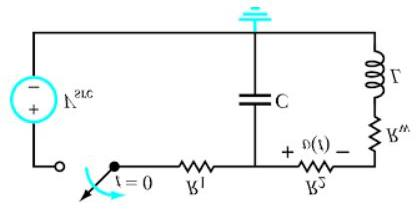inductor: (356, 40, 389, 105)
